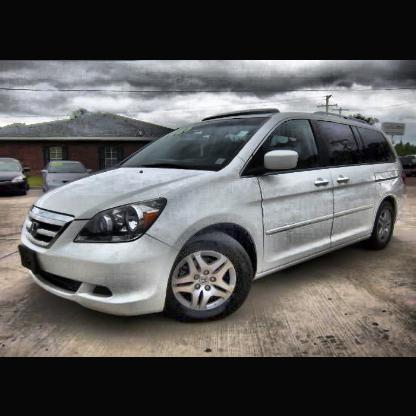Honda Odyssey Minivan 2007: (22, 110, 407, 325)
